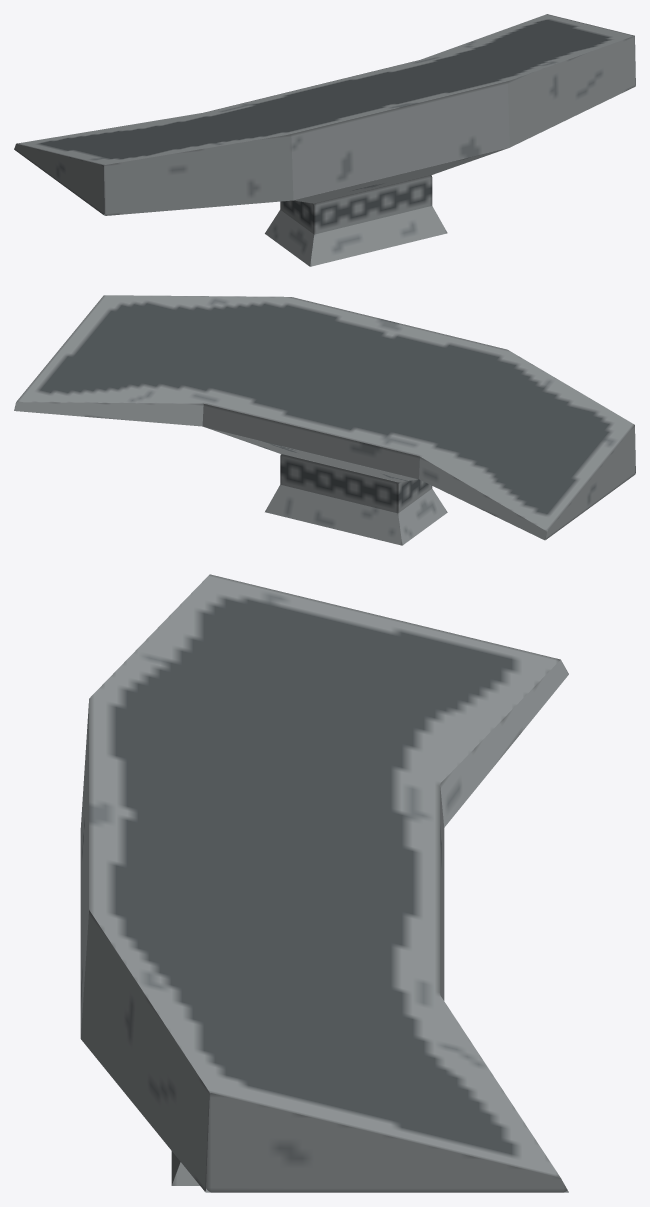
The model's file is table.fbx.
3 views of the same model, one above another, from view 1: azimuth 30°, elevation 25°; view 2: azimuth 150°, elevation 25°; view 3: azimuth 270°, elevation 25° (orthographic). The views are drawn at different scales.
Parts seen in each view (by area): view 1: Table; view 2: Table; view 3: Table.
Part boxes in pixels (box(x1,y1,x2,y2)): Table: box(14, 14, 635, 266); Table: box(14, 295, 635, 545); Table: box(80, 574, 568, 1192).
Size of the model in its own units: 675 by 191 by 269.
Materials: 1 (1 with a texture image).
